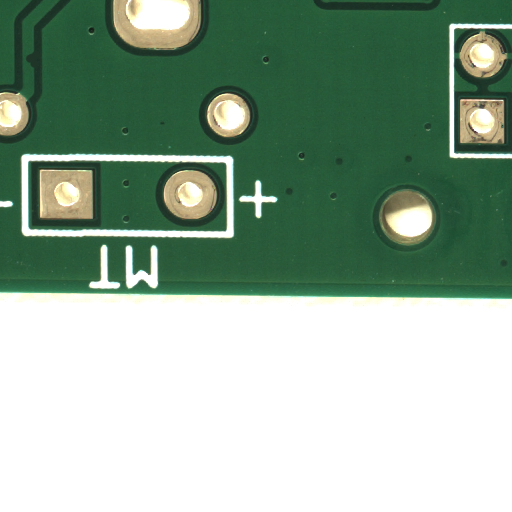Mouse_bite: (30, 60, 39, 75)
